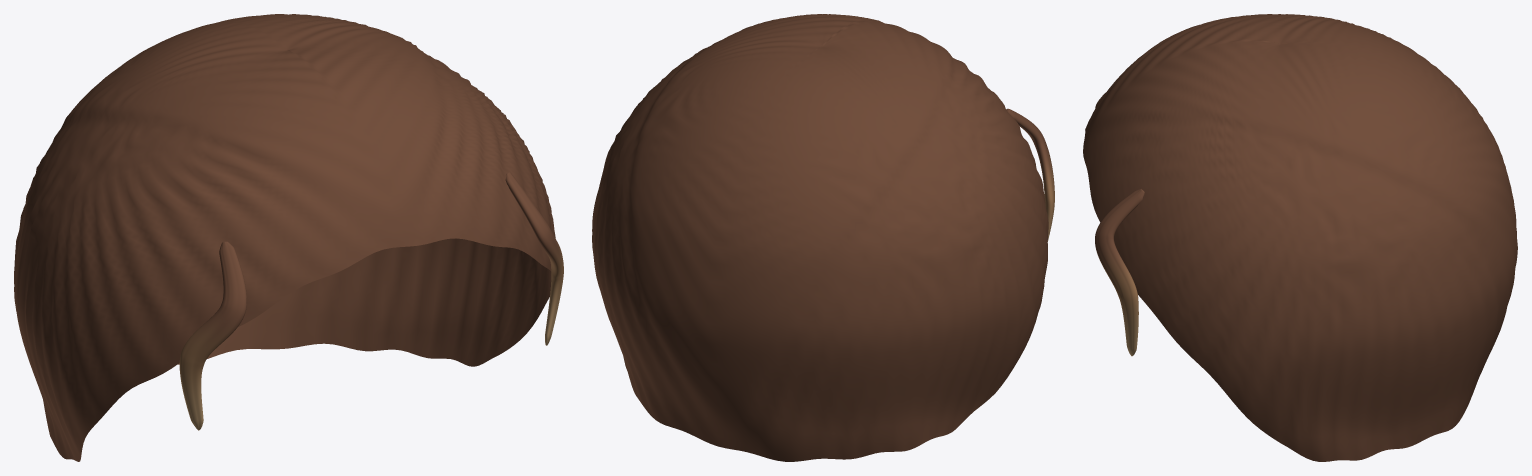
The model's file is space-buns-pashmina-ombre.glb.
3 views of the same model, side by side, from view 1: azimuth 30°, elevation 25°; view 2: azimuth 150°, elevation 25°; view 3: azimuth 270°, elevation 25° (orthographic). The views are drawn at different scales.
Visible parts, largest first — view 1: 226 hair / Hair / chestnut226.001; view 2: 226 hair / Hair / chestnut226.001; view 3: 226 hair / Hair / chestnut226.001.
Part boxes in pixels (bbox=[...]): 226 hair / Hair / chestnut226.001: bbox=[14, 14, 563, 461]; 226 hair / Hair / chestnut226.001: bbox=[592, 14, 1054, 461]; 226 hair / Hair / chestnut226.001: bbox=[1083, 14, 1517, 461].
Size of the model in its own units: 0.7957 by 0.6428 by 0.727.
1 material, 1 textured.
